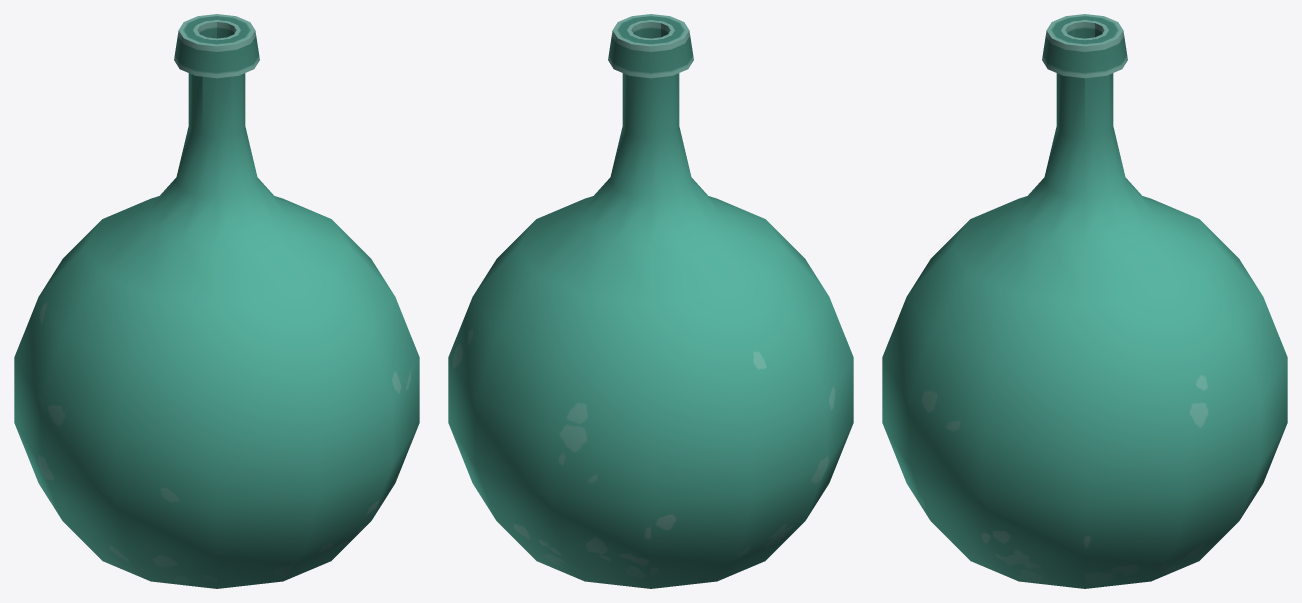
File: Jarron2.fbx
The picture shows the model from 3 angles, left to right: view 1: azimuth 30°, elevation 25°; view 2: azimuth 150°, elevation 25°; view 3: azimuth 270°, elevation 25°; orthographic projection.
Visible parts, largest first — view 1: botellon_001; view 2: botellon_001; view 3: botellon_001.
Part boxes in pixels (<box>): botellon_001: <box>14,14,419,588</box>; botellon_001: <box>448,14,853,588</box>; botellon_001: <box>882,14,1287,588</box>.
Size of the model in its own units: 0.8461 by 1.16 by 0.8461.
